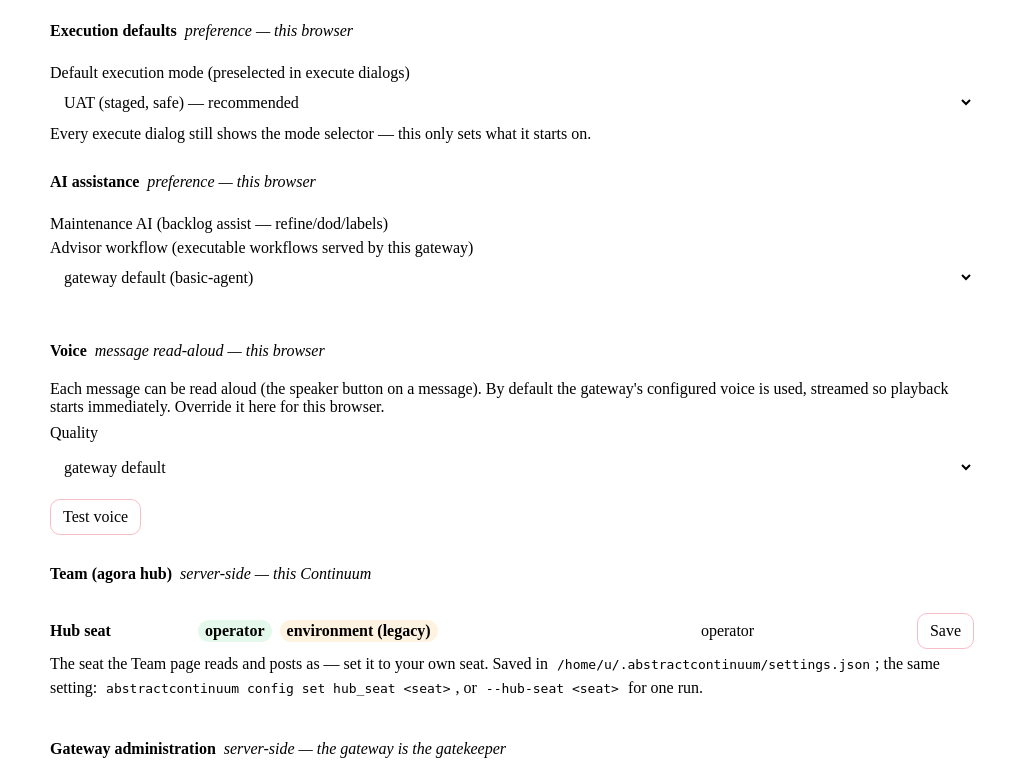
Settings — Hub seat (Continuum server setting) › shows the seat with its source and saves through the server
The width and height of the screenshot is (1024, 768).
expect the text with test id "hub_seat_value" reads "operator": met, box [205,622,264,639]
expect the text with test id "hub_seat_source" reads "environment (legacy)": met, box [286,622,431,639]
Replace the text in the field named "Hub seat" with "laurent". click: (801, 631)
box: [691,613,911,649]
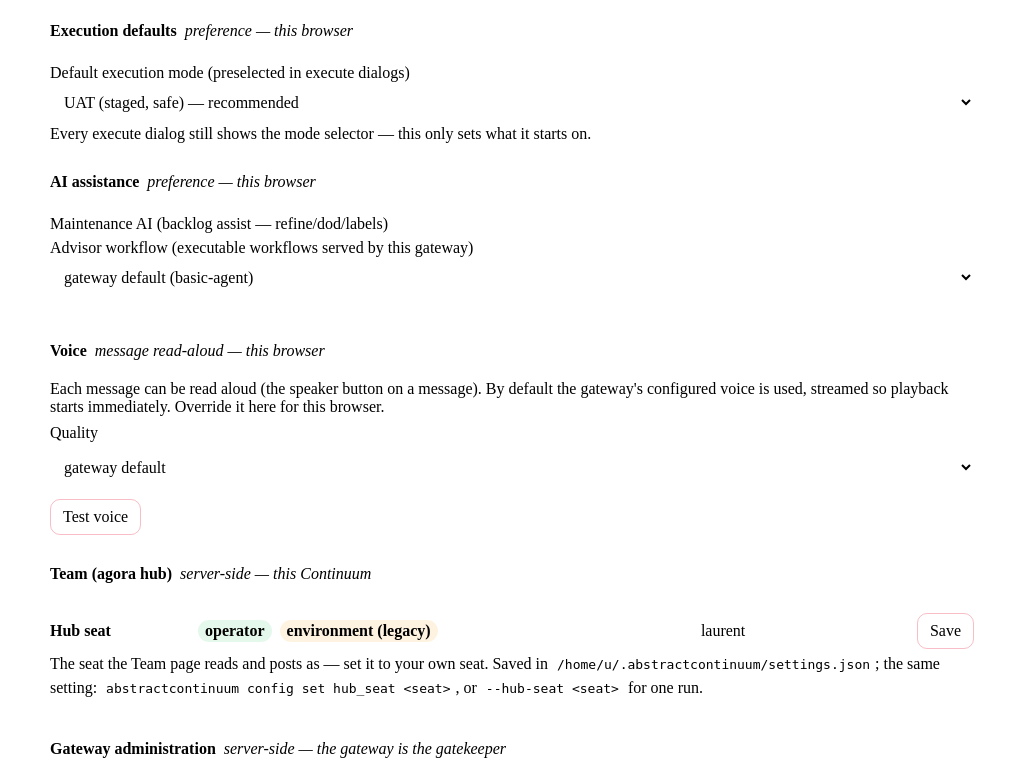
Click the button "Save". click: (945, 631)
box: [917,613,974,649]
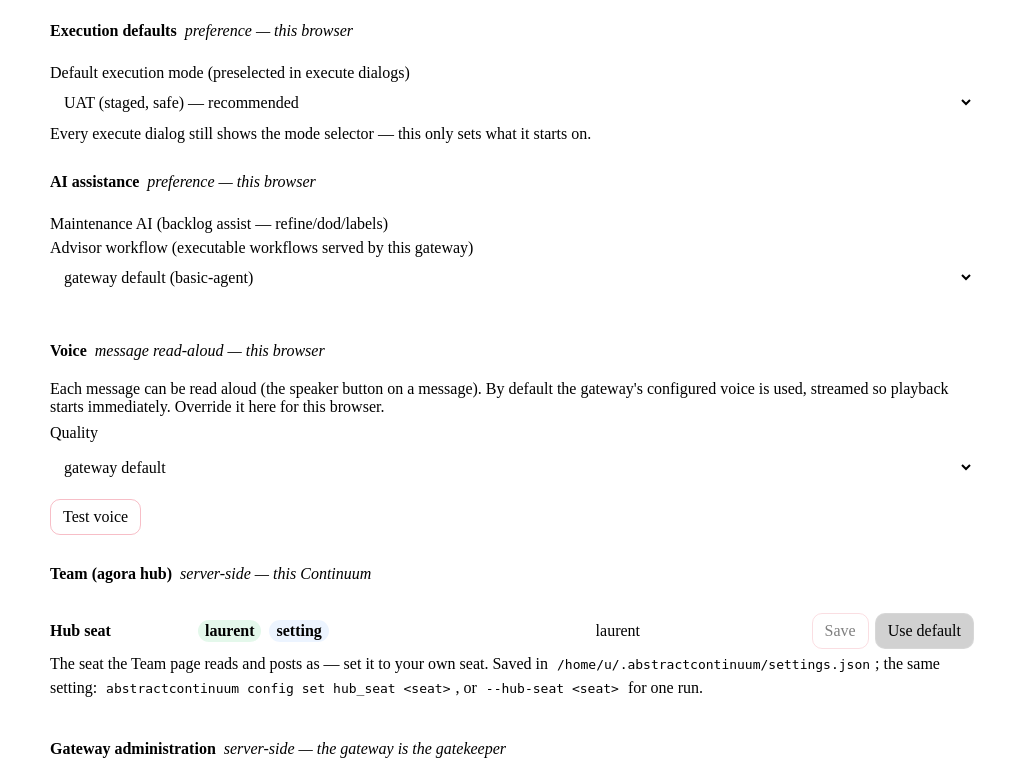
expect the text with test id "hub_seat_source" reads "setting": met, box [276,622,322,639]
expect the text with test id "hub_seat_value" reads "laurent": met, box [205,622,254,639]
